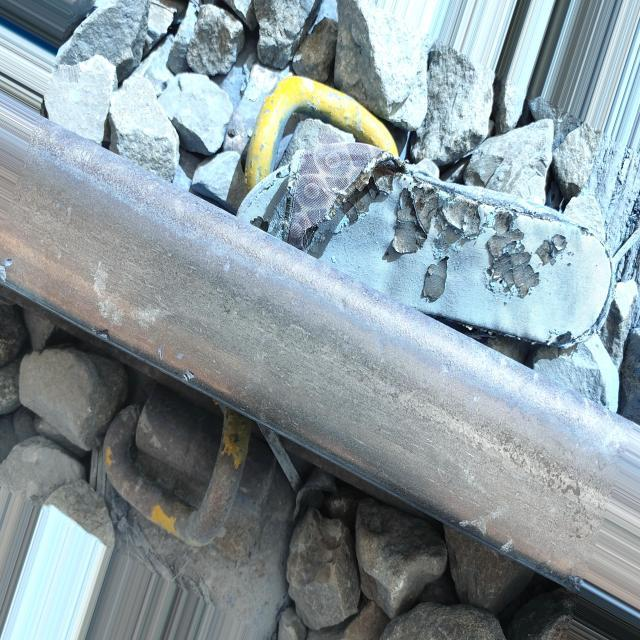Good Fasteners: (103, 384, 262, 547), (223, 64, 389, 190)
